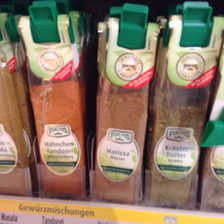spices: (149, 18, 222, 204), (18, 15, 88, 197), (92, 20, 157, 203)
